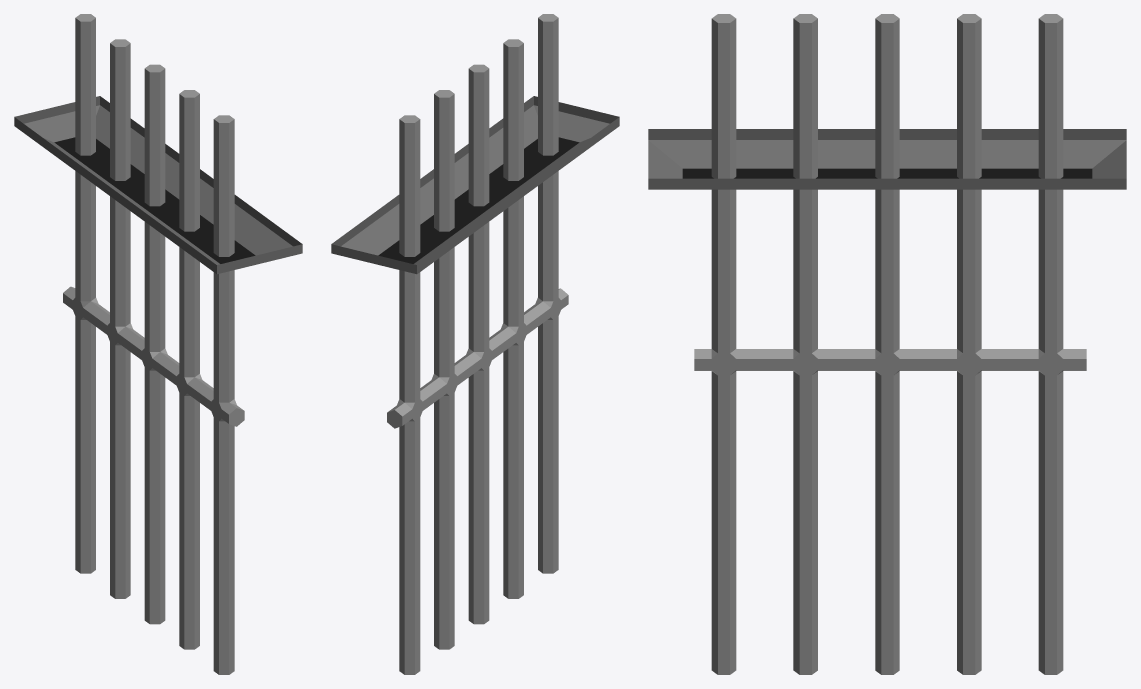
File: Door_Anim.fbx
3 renders of one model, left to right at view 1: azimuth 30°, elevation 25°; view 2: azimuth 150°, elevation 25°; view 3: azimuth 270°, elevation 25°, orthographic. The views are drawn at different scales.
Parts seen in each view (by area): view 1: Door_1, Door_UP; view 2: Door_1, Door_UP; view 3: Door_1, Door_UP.
Part boxes in pixels (box(x1,y1,x2,y2)): Door_1: box(63, 14, 244, 674); Door_UP: box(14, 96, 302, 274); Door_1: box(387, 14, 568, 674); Door_UP: box(331, 96, 619, 274); Door_1: box(694, 14, 1086, 674); Door_UP: box(648, 129, 1126, 189).
Bounding box in the file's own units: 71.59 × 440 × 293.
Materials: 1 (1 with a texture image).
